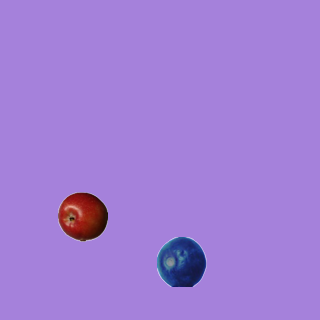Apple Braeburn: (57, 191, 107, 241)
Huckleberry: (156, 236, 206, 286)
